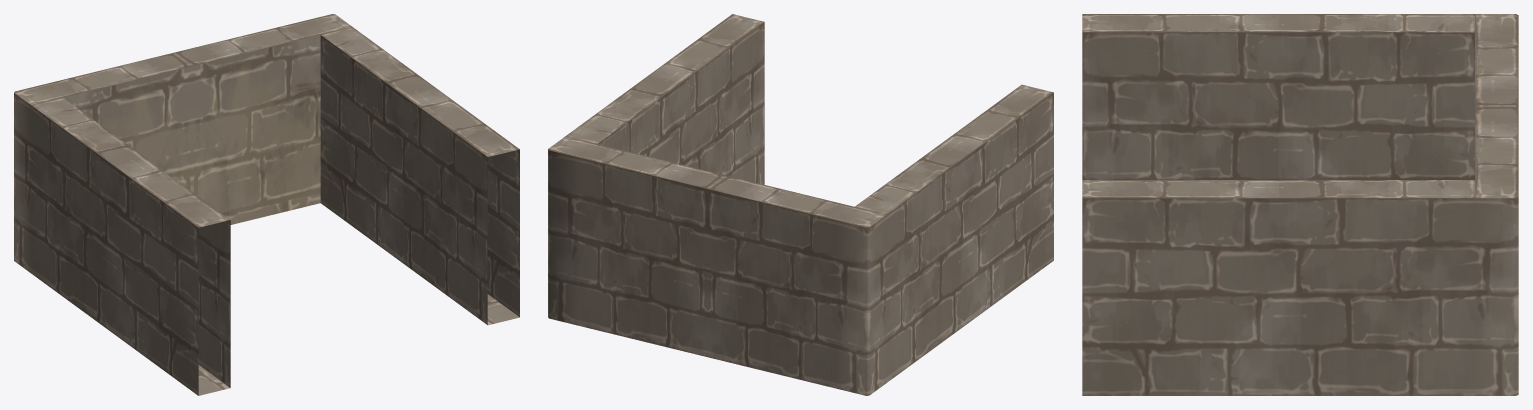
Rendered from Stairs_Exterior_SidesU.gltf.
3 views of the same model, side by side, from view 1: azimuth 30°, elevation 25°; view 2: azimuth 150°, elevation 25°; view 3: azimuth 270°, elevation 25° (orthographic). The views are drawn at different scales.
Visible parts, largest first — view 1: Stairs_Exterior_SidesU; view 2: Stairs_Exterior_SidesU; view 3: Stairs_Exterior_SidesU.
Part boxes in pixels (box(x1,y1,x2,y2)): Stairs_Exterior_SidesU: box(14, 14, 519, 395); Stairs_Exterior_SidesU: box(548, 14, 1053, 395); Stairs_Exterior_SidesU: box(1082, 14, 1518, 395).
Size of the model in its own units: 2 by 0.9999 by 2.
Materials: 1 (1 with a texture image).
